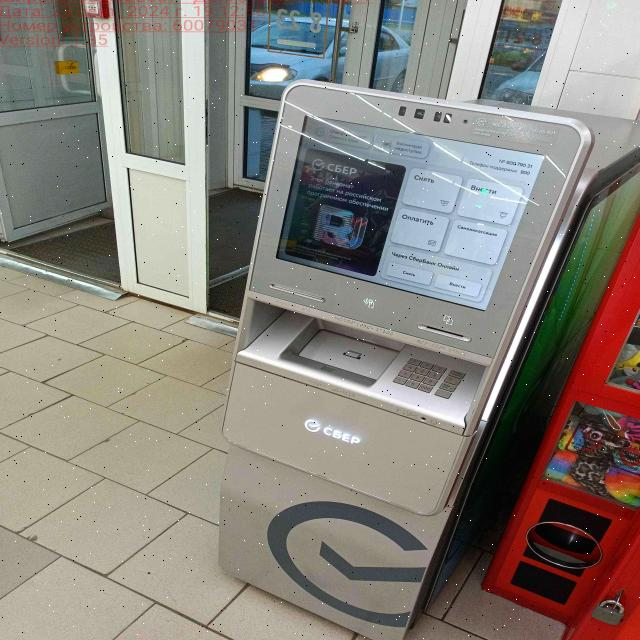bank: (217, 78, 640, 640)
